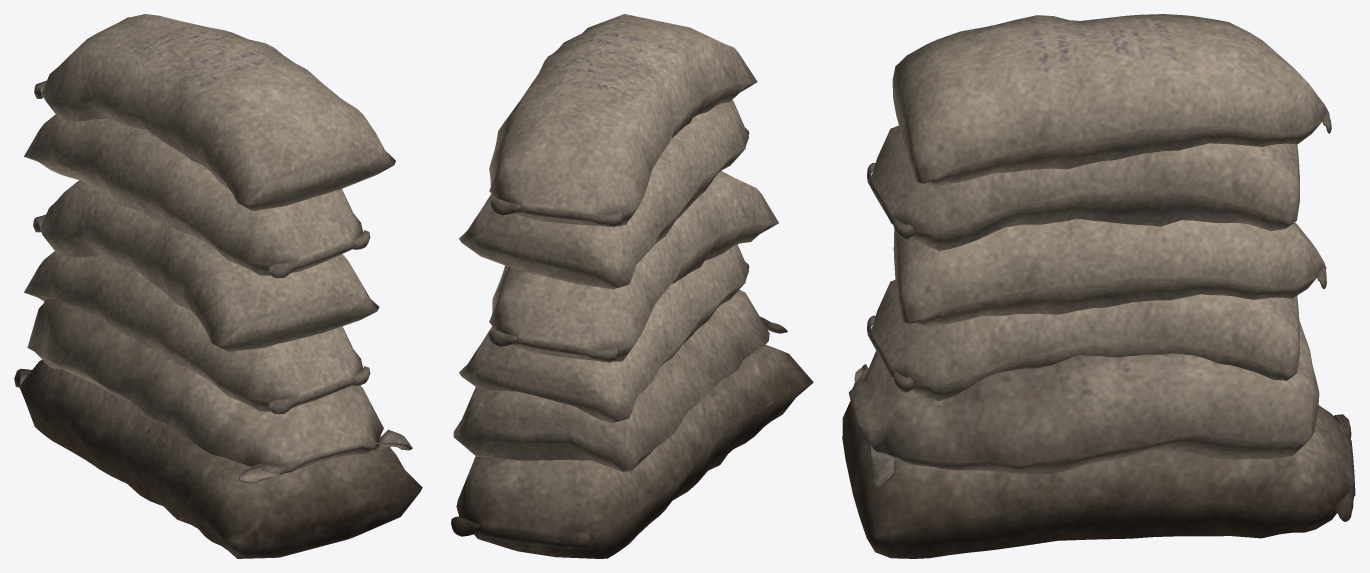
File: SM_FAR_Blocker_03_Merged.fbx
The picture shows the model from 3 angles, left to right: view 1: azimuth 30°, elevation 25°; view 2: azimuth 150°, elevation 25°; view 3: azimuth 270°, elevation 25°; orthographic projection. The views are drawn at different scales.
Parts seen in each view (by area): view 1: SM_FAR_Blocker_03_Merged.mo; view 2: SM_FAR_Blocker_03_Merged.mo; view 3: SM_FAR_Blocker_03_Merged.mo.
Part boxes in pixels (x1,y1,x2,y2): SM_FAR_Blocker_03_Merged.mo: (14, 14, 422, 558); SM_FAR_Blocker_03_Merged.mo: (451, 14, 813, 558); SM_FAR_Blocker_03_Merged.mo: (842, 14, 1355, 558).
Size of the model in its own units: 41.75 by 77.65 by 73.
